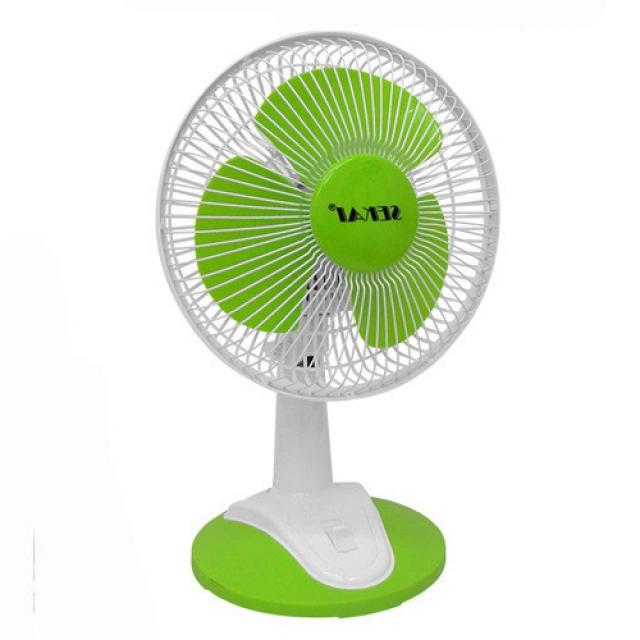fan: (155, 14, 511, 618)
